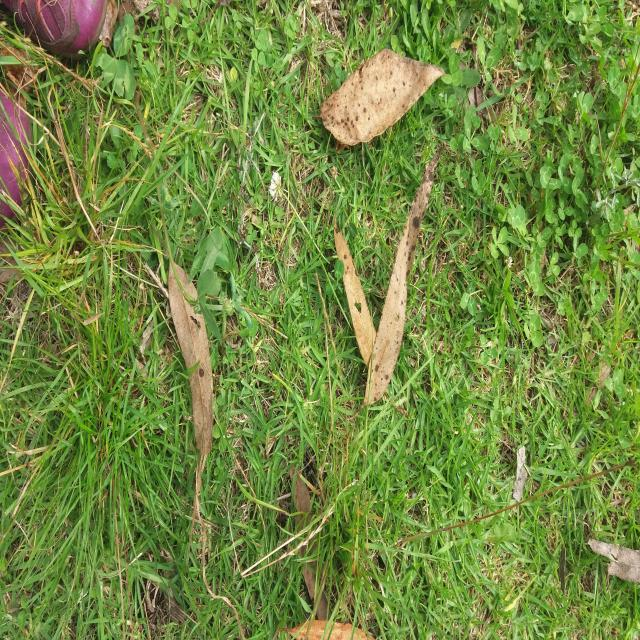Four Leaf Clover: (498, 454, 545, 512), (310, 256, 355, 316), (173, 344, 207, 381), (490, 226, 509, 258)
